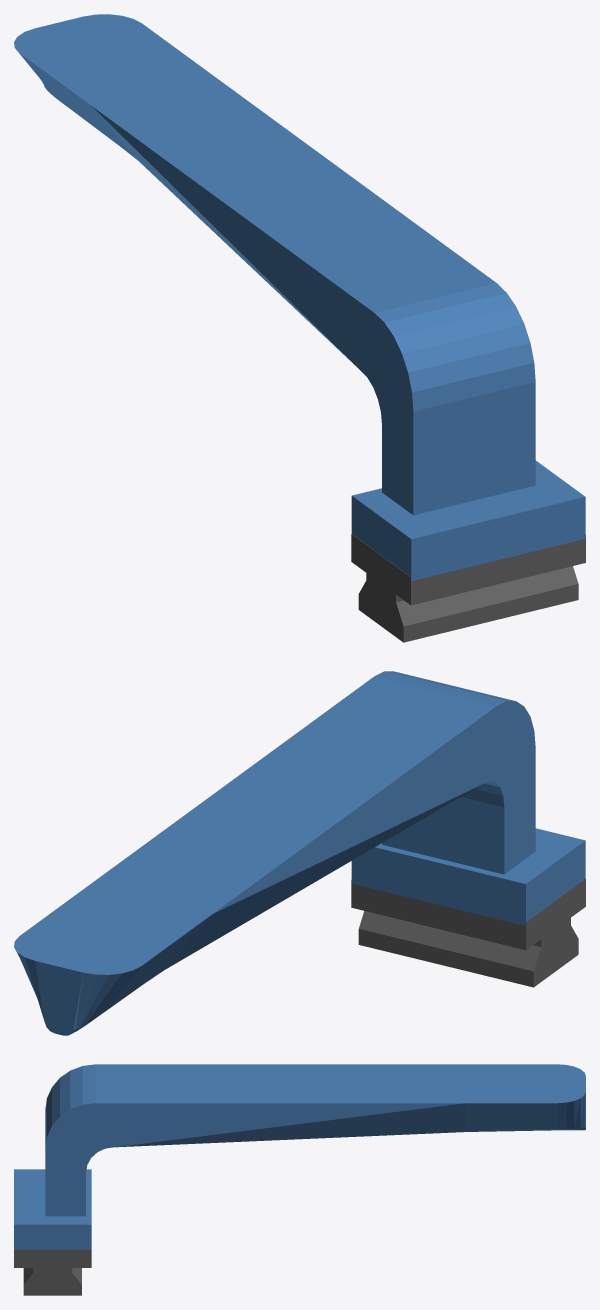
The model's file is VIS_Prism2MidSlider.dae.
3 renders of one model, top to bottom at view 1: azimuth 30°, elevation 25°; view 2: azimuth 150°, elevation 25°; view 3: azimuth 270°, elevation 25°, orthographic. The views are drawn at different scales.
Visible parts, largest first — view 1: VIS_Prism2MidSlider; view 2: VIS_Prism2MidSlider; view 3: VIS_Prism2MidSlider.
Part boxes in pixels (bbox=[...]): VIS_Prism2MidSlider: bbox=[14, 14, 585, 642]; VIS_Prism2MidSlider: bbox=[14, 671, 585, 1035]; VIS_Prism2MidSlider: bbox=[14, 1064, 585, 1295].
Size of the model in its own units: 0.0251 by 0.109 by 0.0387.
